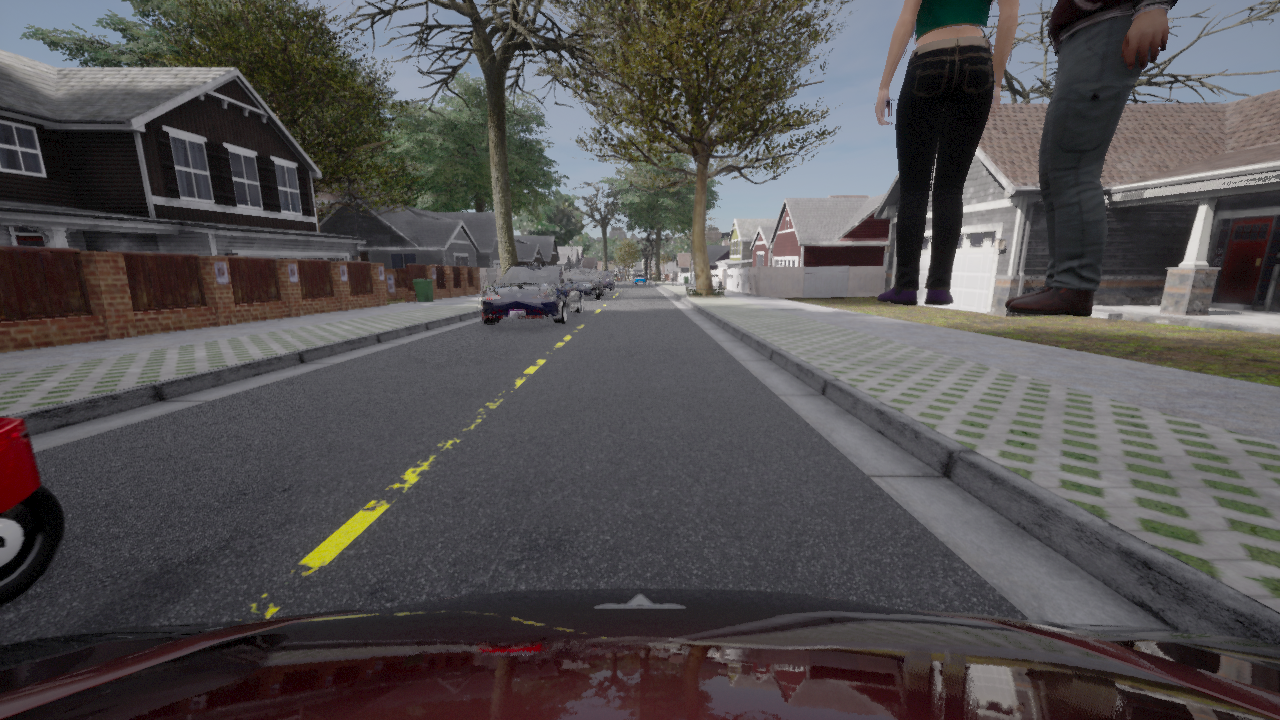cyclist: (0, 588, 1279, 719), (479, 264, 581, 324), (569, 266, 603, 297), (598, 270, 613, 290), (634, 273, 645, 284)
pedestrian: (1005, 0, 1178, 316), (876, 0, 1019, 305)
